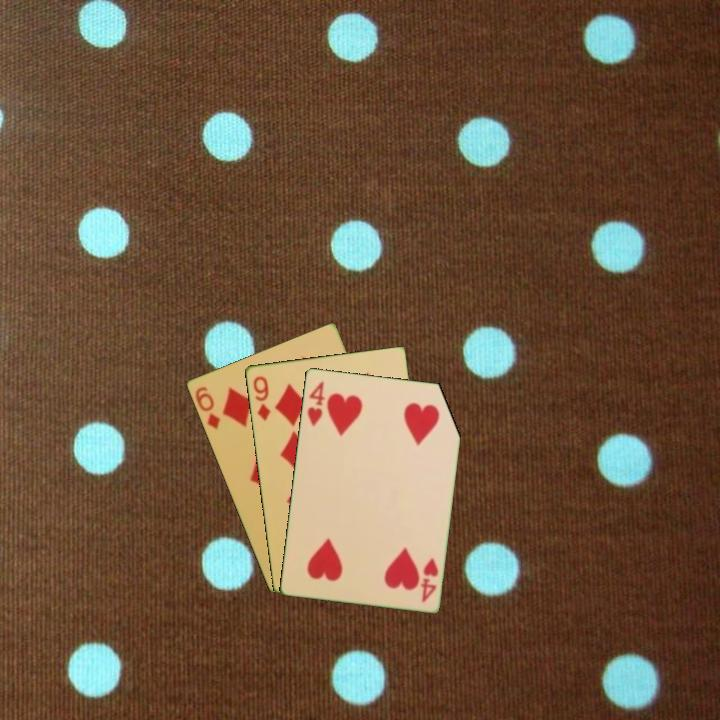4h: (303, 377, 327, 428), (417, 554, 441, 605)
6d: (191, 383, 223, 432)
9d: (249, 372, 273, 423)
